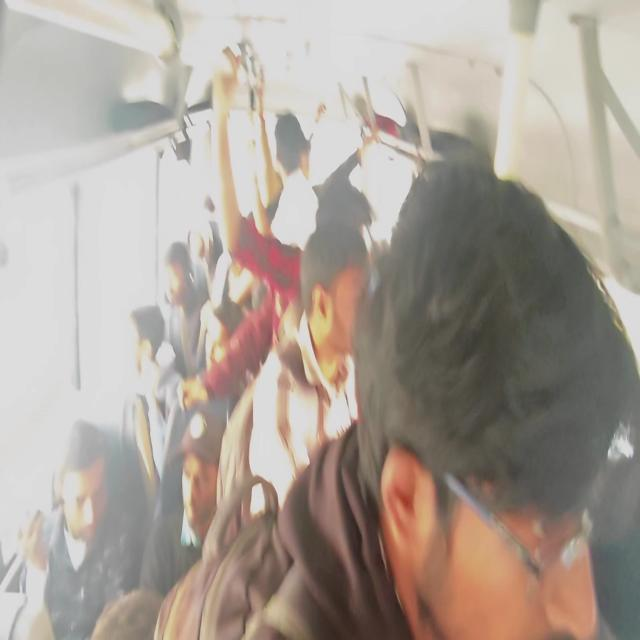person: (402, 184, 576, 640), (42, 421, 146, 640), (304, 244, 362, 359), (119, 316, 169, 384), (320, 175, 357, 256), (169, 208, 196, 318), (172, 422, 198, 518), (194, 316, 231, 383), (274, 113, 304, 194), (197, 168, 221, 239), (191, 217, 216, 274), (219, 261, 246, 311), (296, 134, 317, 180)
